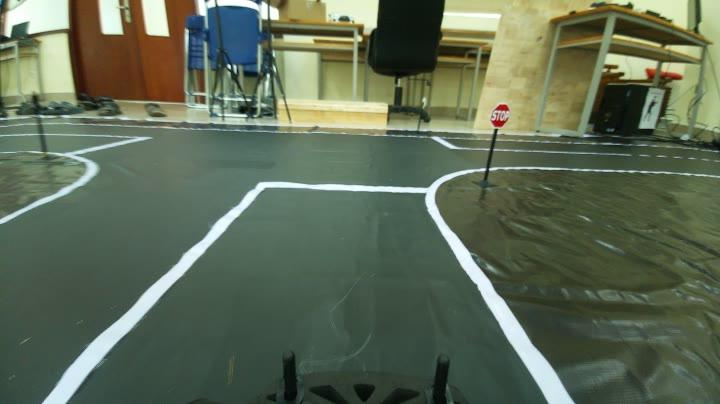stop: (482, 102, 520, 131)
